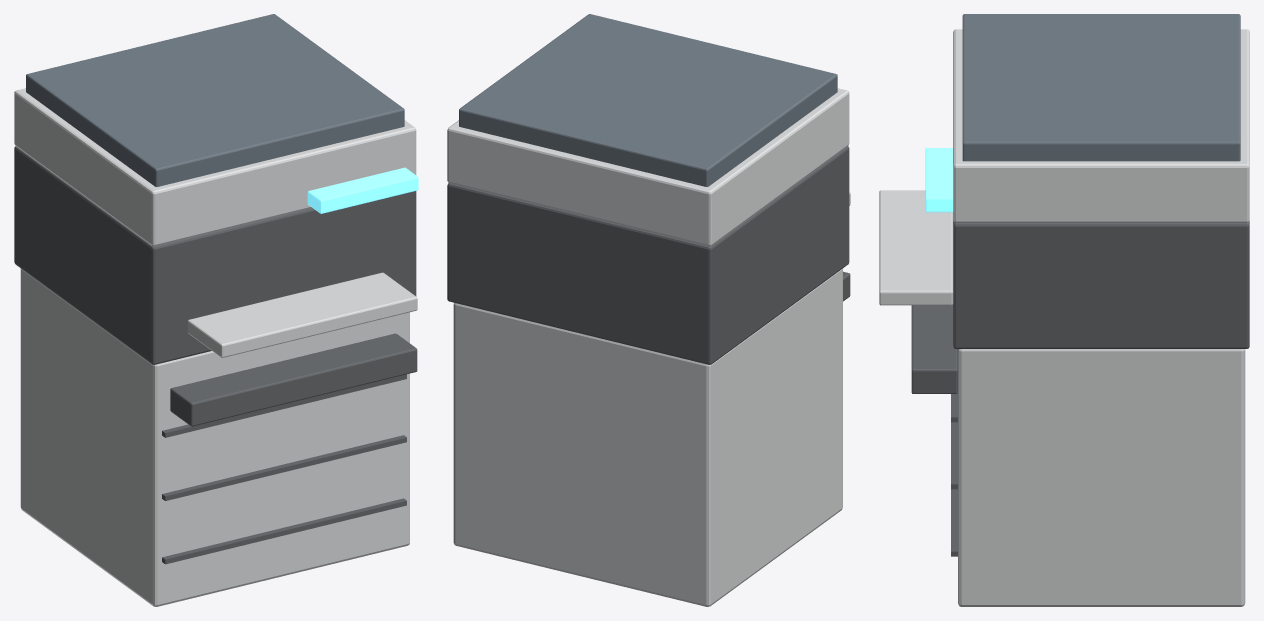
The model's file is copier.glb.
3 views of the same model, side by side, from view 1: azimuth 30°, elevation 25°; view 2: azimuth 150°, elevation 25°; view 3: azimuth 270°, elevation 25° (orthographic). The views are drawn at different scales.
Visible parts, largest first — view 1: copier; view 2: copier; view 3: copier.
Boxes of the visible parts, left/top/right/bottom form: copier: left=14, top=14, right=418, bottom=606; copier: left=447, top=14, right=850, bottom=606; copier: left=879, top=14, right=1249, bottom=606.
Size of the model in its own units: 0.7 by 1.11 by 0.8.
